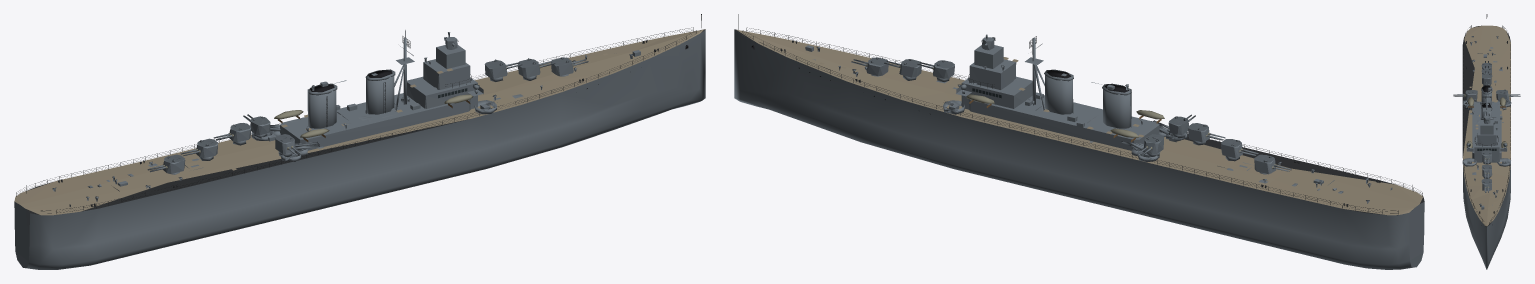
File: atlanta_lod.glb
3 views of the same model, side by side, from view 1: azimuth 30°, elevation 25°; view 2: azimuth 150°, elevation 25°; view 3: azimuth 270°, elevation 25° (orthographic). The views are drawn at different scales.
Visible parts, largest first — view 1: atlanta_lod; view 2: atlanta_lod; view 3: atlanta_lod.
Part boxes in pixels (box(x1,y1,x2,y2)): atlanta_lod: box(14, 14, 705, 269); atlanta_lod: box(734, 14, 1424, 269); atlanta_lod: box(1453, 14, 1520, 269).
Size of the model in its own units: 165 by 34.48 by 22.65.
